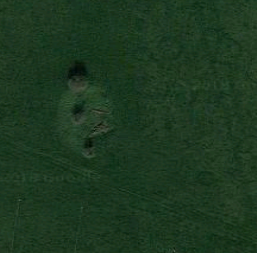tree: (64, 69, 96, 99), (74, 144, 101, 164)
